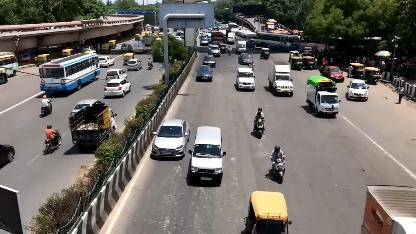auto-rikshaw: (241, 191, 292, 234), (363, 67, 380, 84), (349, 62, 365, 78), (303, 56, 316, 69), (291, 56, 303, 70), (289, 50, 300, 61), (260, 47, 270, 59), (219, 43, 226, 53)
bike: (268, 155, 288, 185), (251, 115, 269, 139)
bus: (255, 32, 300, 50), (236, 29, 257, 47)
car: (186, 122, 226, 190), (150, 115, 186, 167), (235, 65, 256, 93), (346, 79, 370, 100), (194, 63, 214, 83), (323, 65, 345, 82), (201, 52, 215, 68), (238, 52, 254, 64), (209, 44, 221, 56)
truck: (306, 76, 342, 118), (269, 60, 295, 96), (236, 40, 247, 53)
